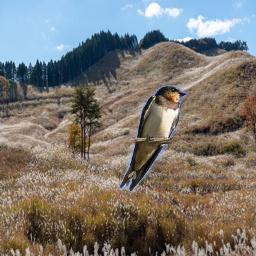Swallow: (119, 85, 188, 191)
